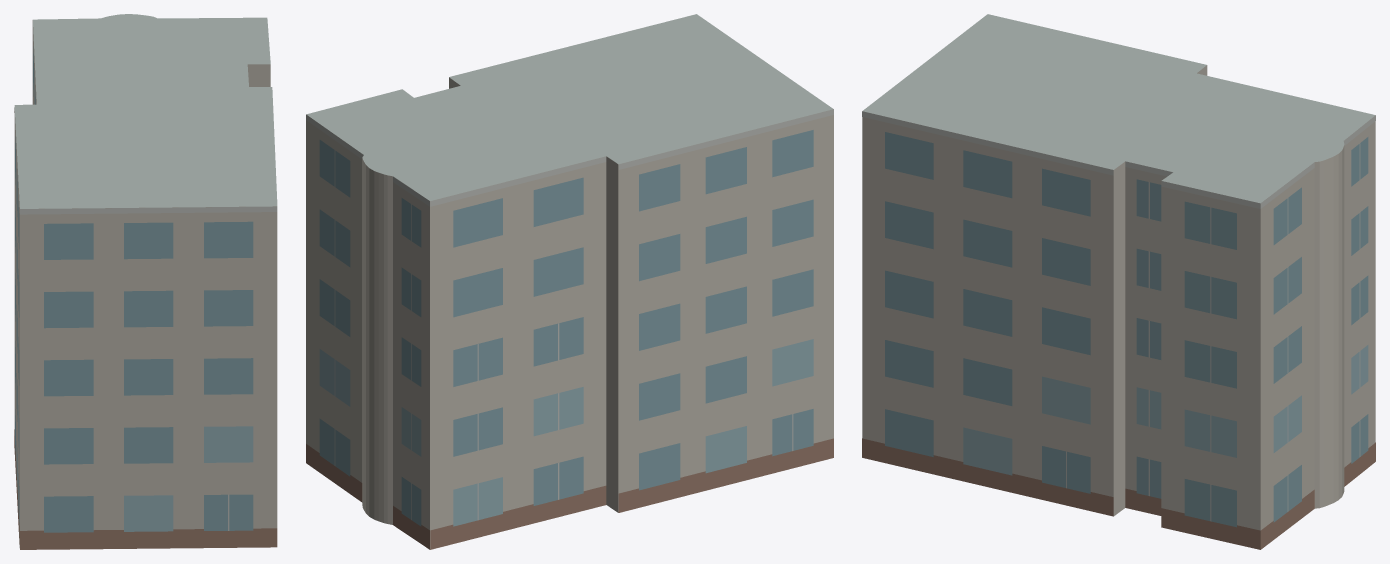
Rendered from survey-upis-32876802.glb.
The picture shows the model from 3 angles, left to right: view 1: azimuth 30°, elevation 25°; view 2: azimuth 150°, elevation 25°; view 3: azimuth 270°, elevation 25°; orthographic projection. The views are drawn at different scales.
Visible parts, largest first — view 1: survey-upis-32876802.tmp; view 2: survey-upis-32876802.tmp; view 3: survey-upis-32876802.tmp.
Boxes of the visible parts, x1,y1,x2,y2 form: survey-upis-32876802.tmp: (14, 14, 277, 549); survey-upis-32876802.tmp: (306, 14, 833, 549); survey-upis-32876802.tmp: (862, 14, 1375, 549).
Size of the model in its own units: 17.47 by 14.9 by 20.02.
